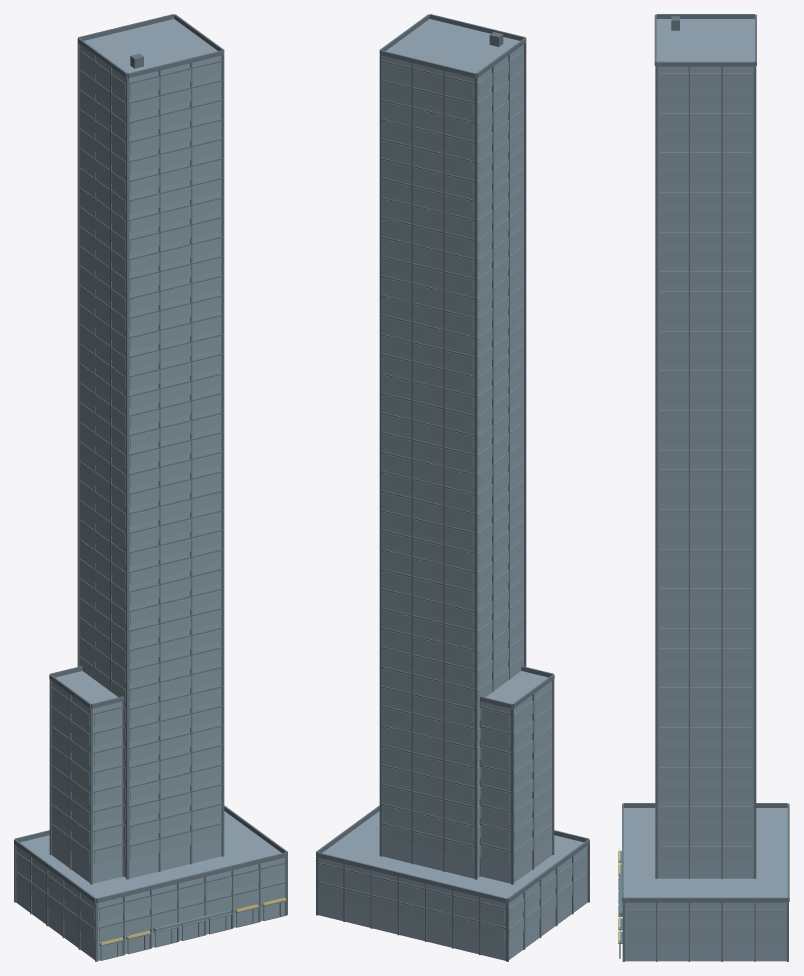
File: commercial_4x3_tower.glb
The picture shows the model from 3 angles, left to right: view 1: azimuth 30°, elevation 25°; view 2: azimuth 150°, elevation 25°; view 3: azimuth 270°, elevation 25°; orthographic projection.
Parts seen in each view (by area): view 1: commercial_4x3_tower_0; view 2: commercial_4x3_tower_0; view 3: commercial_4x3_tower_0.
Boxes of the visible parts, x1,y1,x2,y2 form: commercial_4x3_tower_0: (14,14,287,961); commercial_4x3_tower_0: (316,14,589,961); commercial_4x3_tower_0: (618,14,789,961).
Size of the model in its own units: 31 by 134 by 23.5.
